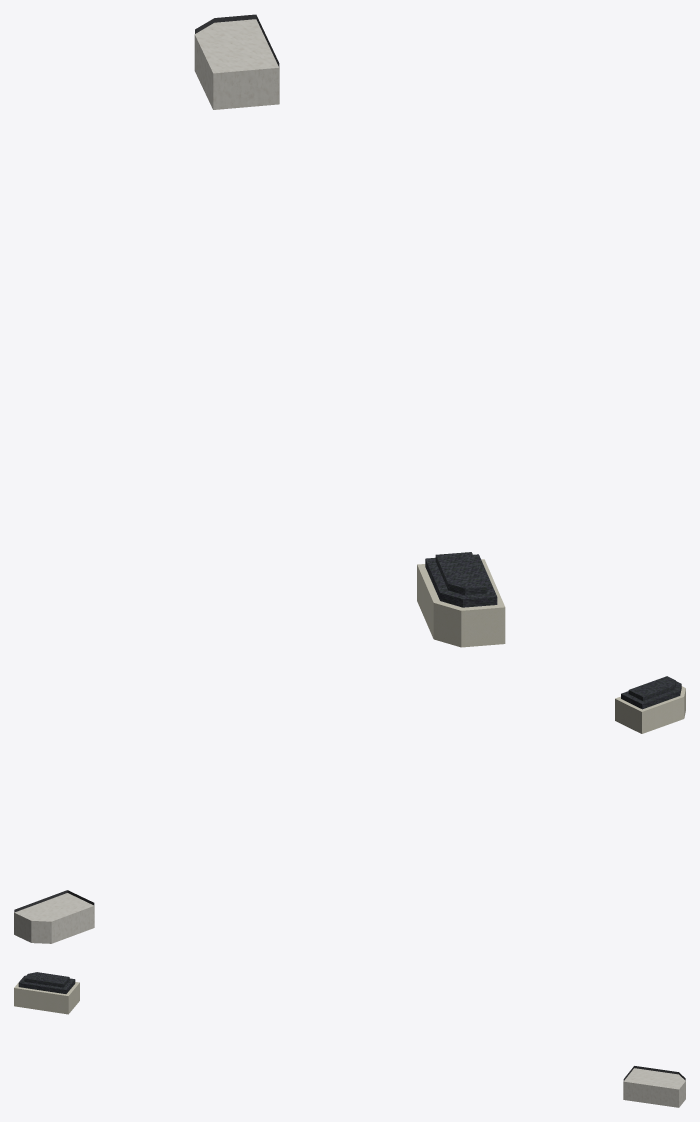
3 renders of one model, top to bottom at view 1: azimuth 30°, elevation 25°; view 2: azimuth 150°, elevation 25°; view 3: azimuth 270°, elevation 25°, orthographic. The views are drawn at different scales.
Parts seen in each view (by area): view 1: bldg_1083317410, bldg_1187573253, bldg_1187573253_roof_b, bldg_1187573253_roof_a; view 2: bldg_1083317410, bldg_1187573253, bldg_1187573253_roof_b, bldg_1187573253_roof_a; view 3: bldg_1083317410, bldg_1187573253, bldg_1187573253_roof_b, bldg_1187573253_roof_a.
Boxes of the visible parts, <box> form: bldg_1083317410: <box>194,19,279,109</box>; bldg_1187573253: <box>417,559,505,647</box>; bldg_1187573253_roof_b: <box>435,552,486,595</box>; bldg_1187573253_roof_a: <box>425,554,497,607</box>; bldg_1083317410: <box>14,893,94,943</box>; bldg_1187573253: <box>615,686,685,733</box>; bldg_1187573253_roof_b: <box>628,676,675,700</box>; bldg_1187573253_roof_a: <box>621,681,681,709</box>; bldg_1083317410: <box>623,1068,685,1107</box>; bldg_1187573253: <box>14,979,79,1014</box>; bldg_1187573253_roof_b: <box>24,972,69,987</box>; bldg_1187573253_roof_a: <box>18,975,75,993</box>.
Size of the model in its own units: 41.84 by 4.45 by 105.
Materials: 4 (4 with a texture image).
